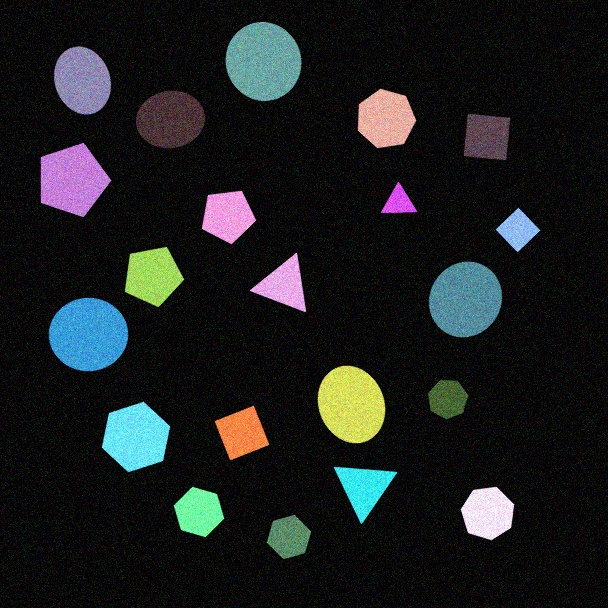Circulo: (225, 21, 302, 102), (48, 297, 129, 372), (428, 261, 503, 338)
Elipse: (317, 365, 386, 444), (135, 90, 206, 149), (53, 46, 112, 115)
Heptagono: (357, 88, 417, 149), (460, 486, 515, 541), (427, 379, 469, 420)
Hexagono: (101, 401, 171, 473), (173, 486, 225, 538), (266, 514, 312, 560)
Pentagono: (40, 142, 112, 218), (124, 246, 185, 308), (201, 190, 257, 245)
Quadrado: (214, 405, 270, 461), (463, 113, 511, 161), (495, 207, 541, 253)
Triangulo: (333, 466, 398, 525), (250, 252, 307, 313), (380, 182, 418, 214)
